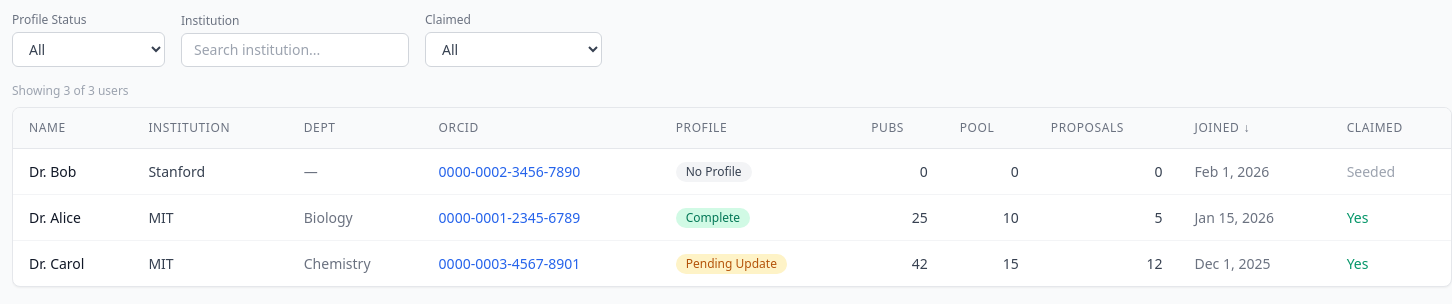
Test: UsersTable › clears all filters when Clear filters is clicked
Step 1. Select "No Profile" in the dropdown labelled "Profile Status" → (88, 50), box x1=12 y1=32 x2=165 y2=67
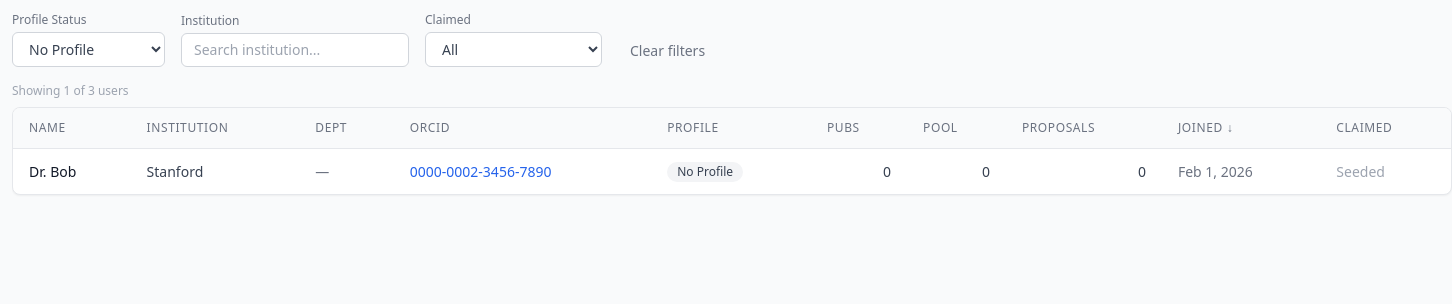
Expected: the text "Showing 1 of 3 users" is shown, x1=12 y1=82 x2=129 y2=99
Step 2. Click the button "Clear filters" → click(668, 51), box x1=618 y1=35 x2=717 y2=67
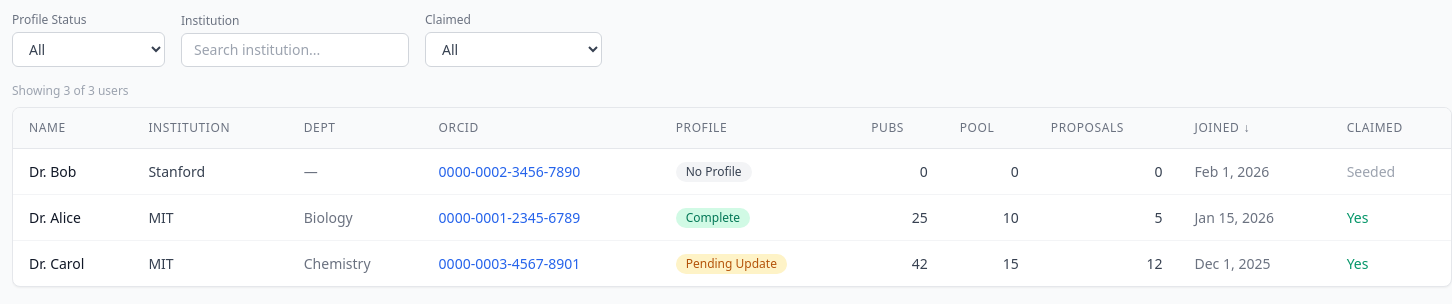
Expected: the text "Showing 3 of 3 users" is shown, x1=12 y1=82 x2=129 y2=99
